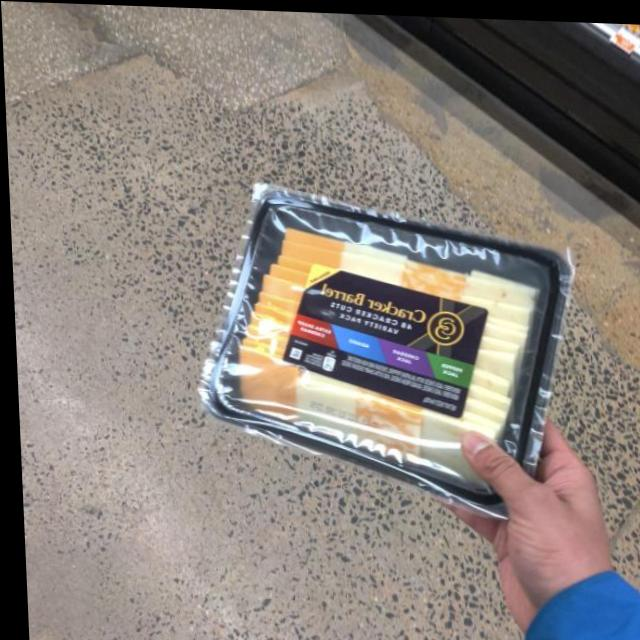Cheese: (144, 160, 591, 520)
